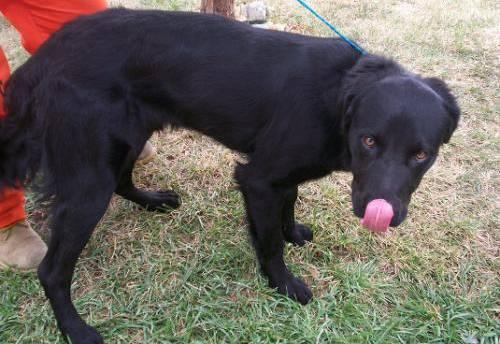dog: (0, 8, 459, 343)
